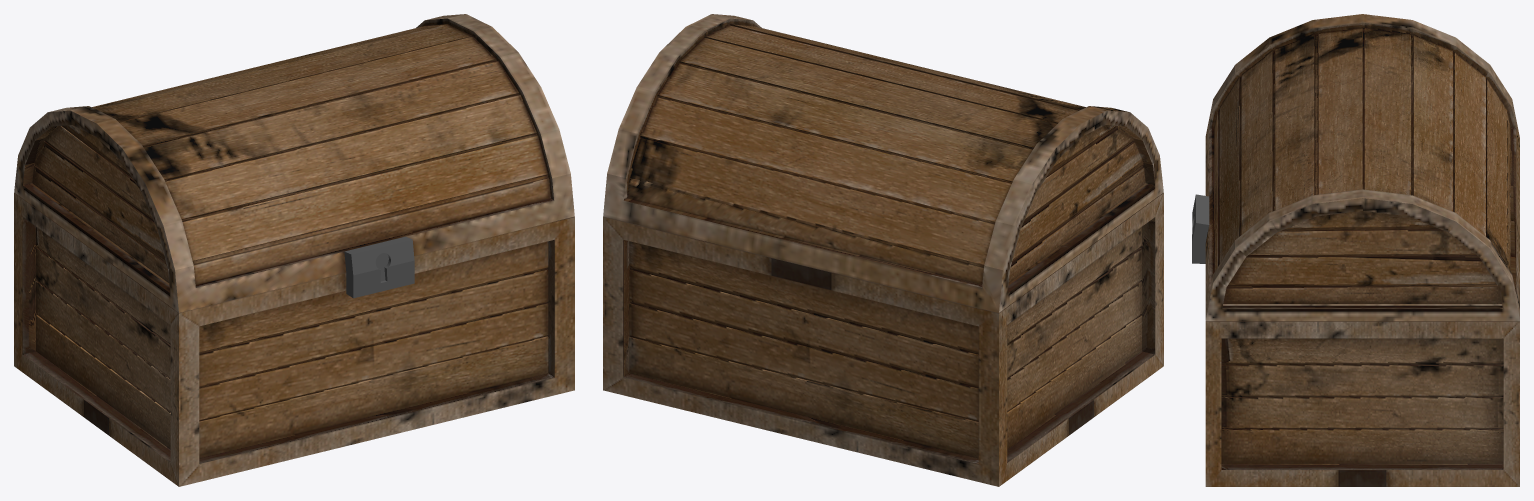
The model's file is Item_Instant_Barrel_01.fbx.
3 views of the same model, side by side, from view 1: azimuth 30°, elevation 25°; view 2: azimuth 150°, elevation 25°; view 3: azimuth 270°, elevation 25° (orthographic). The views are drawn at different scales.
Parts seen in each view (by area): view 1: Item_Instant_Barrel_01; view 2: Item_Instant_Barrel_01; view 3: Item_Instant_Barrel_01.
Boxes of the visible parts, bbox=[...] form: Item_Instant_Barrel_01: bbox=[14, 14, 574, 486]; Item_Instant_Barrel_01: bbox=[603, 14, 1163, 486]; Item_Instant_Barrel_01: bbox=[1192, 14, 1519, 486].
Bounding box in the file's own units: 125 × 91.17 × 93.72.
